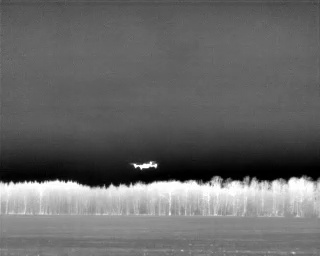DRONE: (128, 156, 163, 173)
